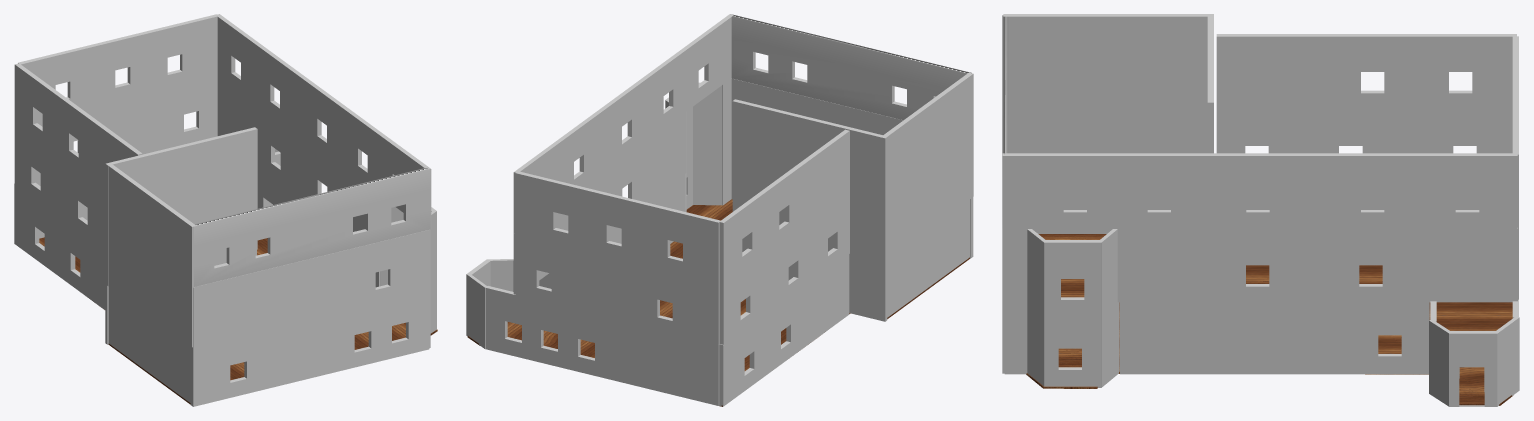
The model's file is casa-lado-de-fora.fbx.
3 views of the same model, side by side, from view 1: azimuth 30°, elevation 25°; view 2: azimuth 150°, elevation 25°; view 3: azimuth 270°, elevation 25° (orthographic). The views are drawn at different scales.
Parts seen in each view (by area): view 1: Cube.099, Cube.096, Cube.075, Cube.101, Cube.107, Cube.063, Cube.102, Cube.086, Cube.083, Cube.098, Cube.078, Cube.097 (+7 smaller); view 2: Cube.054, Cube.099, Cube.107, Cube.083, Cube.101, Cube.102, Cube.078, Cube.063, Cube.097, Cube.098, Cube.080, Cube.050 (+12 smaller); view 3: Cube.101, Cube.086, Cube.077, Cube.102, Cube.098, Cube.080, Cube.097, Plane.001, Cube.095, Cube.060, Cube.073, Cube.059 (+12 smaller).
Part boxes in pixels (x1=…): Cube.099: x1=194, y1=168, x2=430, y2=286; Cube.096: x1=193, y1=230, x2=429, y2=346; Cube.075: x1=190, y1=289, x2=429, y2=406; Cube.101: x1=217, y1=14, x2=431, y2=228; Cube.107: x1=18, y1=14, x2=218, y2=120; Cube.063: x1=105, y1=127, x2=257, y2=225; Cube.102: x1=14, y1=63, x2=142, y2=190; Cube.086: x1=217, y1=77, x2=365, y2=231; Cube.083: x1=35, y1=76, x2=217, y2=180; Cube.098: x1=108, y1=164, x2=196, y2=286; Cube.078: x1=14, y1=183, x2=105, y2=309; Cube.097: x1=14, y1=125, x2=105, y2=249; Cube.054: x1=485, y1=286, x2=719, y2=405; Cube.099: x1=731, y1=14, x2=971, y2=120; Cube.107: x1=515, y1=171, x2=720, y2=283; Cube.083: x1=515, y1=235, x2=719, y2=344; Cube.101: x1=513, y1=14, x2=733, y2=233; Cube.102: x1=719, y1=129, x2=849, y2=284; Cube.078: x1=719, y1=253, x2=849, y2=406; Cube.063: x1=732, y1=99, x2=887, y2=199; Cube.097: x1=719, y1=192, x2=849, y2=344; Cube.098: x1=883, y1=72, x2=973, y2=197; Cube.080: x1=888, y1=135, x2=973, y2=258; Cube.050: x1=887, y1=199, x2=969, y2=317; Cube.101: x1=1002, y1=153, x2=1517, y2=229; Cube.086: x1=1117, y1=228, x2=1517, y2=302; Cube.077: x1=1120, y1=301, x2=1429, y2=374; Cube.102: x1=1216, y1=34, x2=1516, y2=109; Cube.098: x1=1003, y1=14, x2=1210, y2=89; Cube.080: x1=1008, y1=90, x2=1207, y2=153; Cube.097: x1=1216, y1=110, x2=1512, y2=153; Plane.001: x1=1026, y1=234, x2=1513, y2=405; Cube.095: x1=1044, y1=240, x2=1100, y2=315; Cube.060: x1=1044, y1=314, x2=1100, y2=387; Cube.073: x1=1449, y1=331, x2=1497, y2=406; Cube.059: x1=1004, y1=301, x2=1027, y2=374.
Size of the model in its own units: 3525 by 2065 by 4417.
2 materials, 1 textured.
